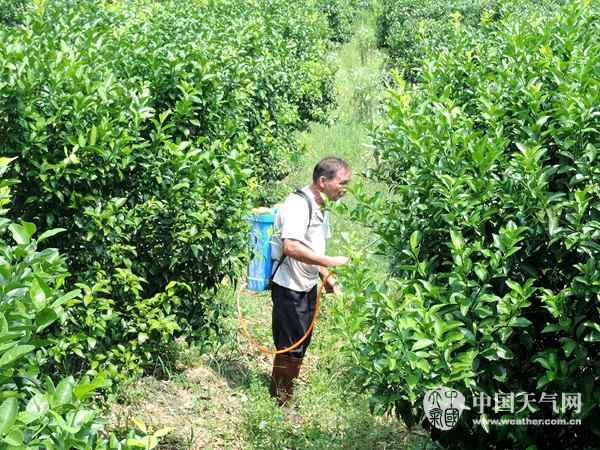berrl: (243, 207, 278, 293)
